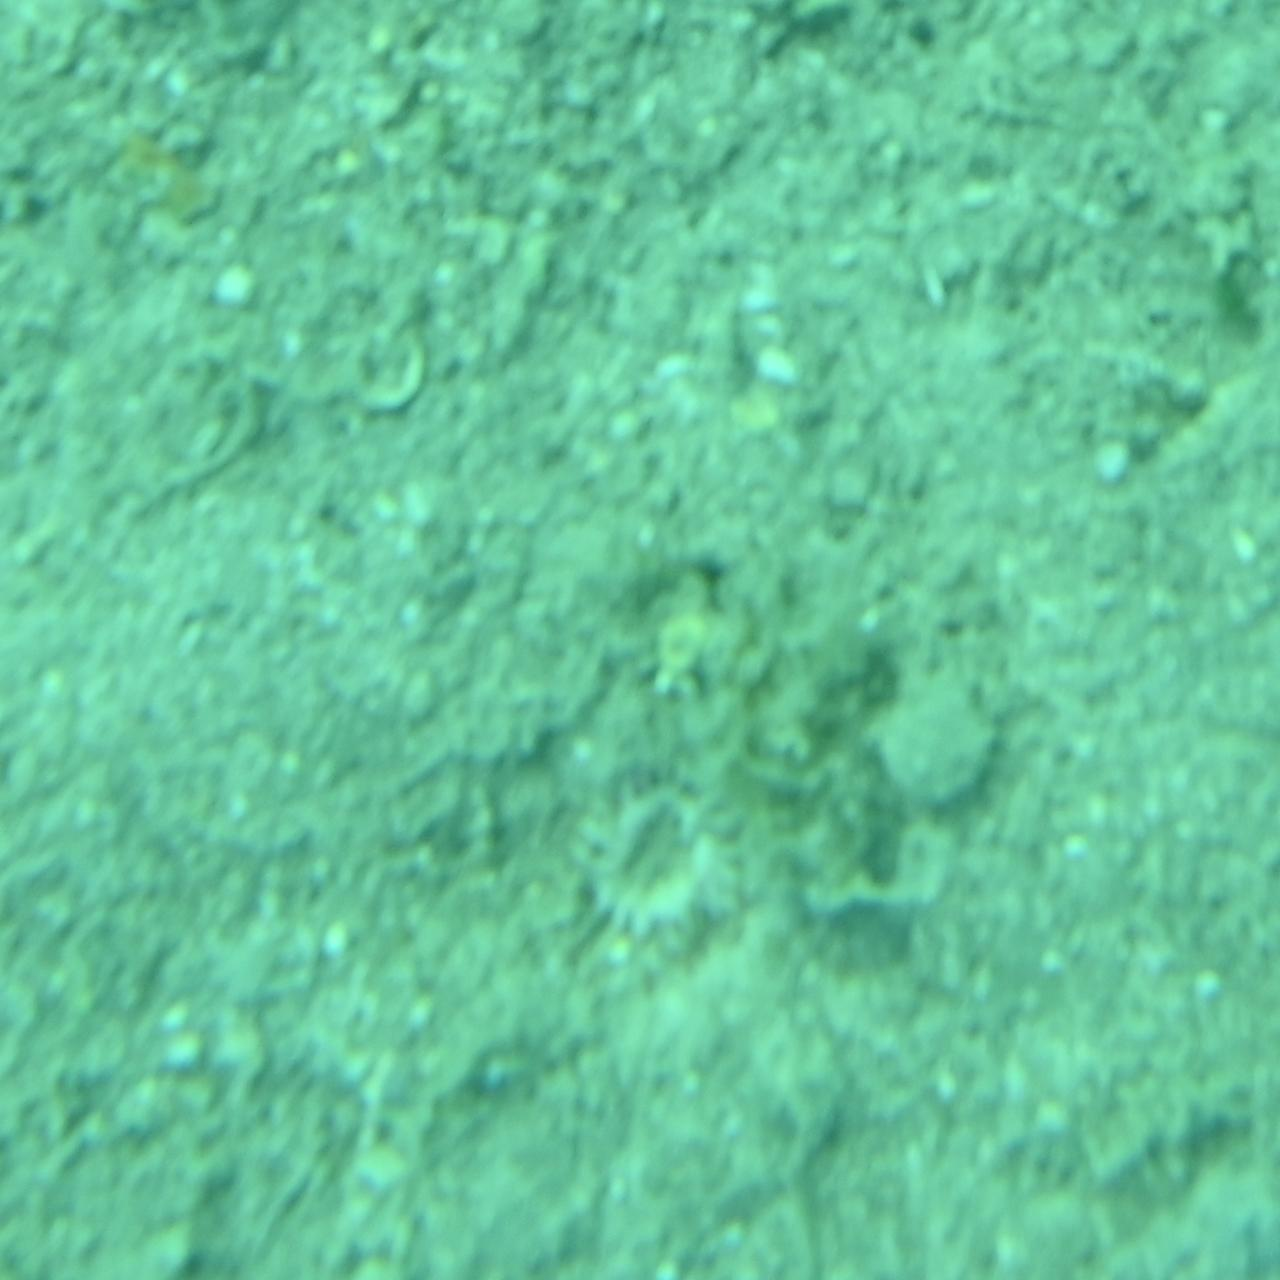Condylactis aurantiaca: (522, 760, 758, 971)
